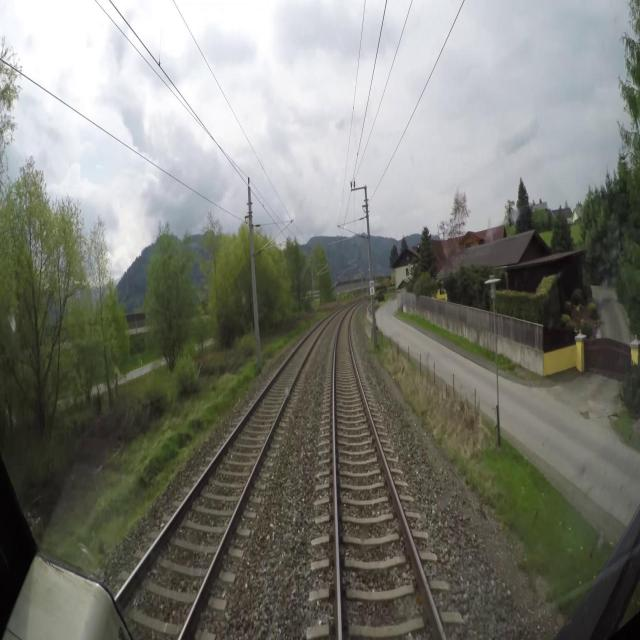rail-track: (119, 319, 327, 639)
